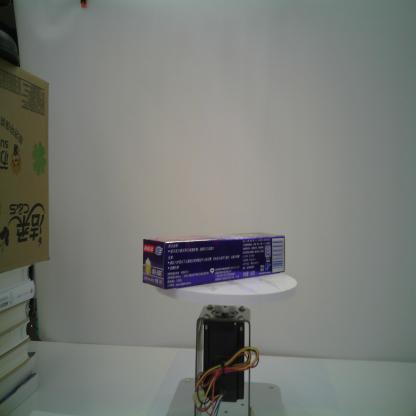Personal Hygiene: (138, 231, 286, 290)
